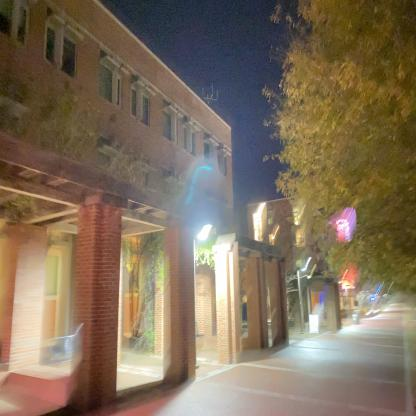eb2: (1, 4, 233, 352)
